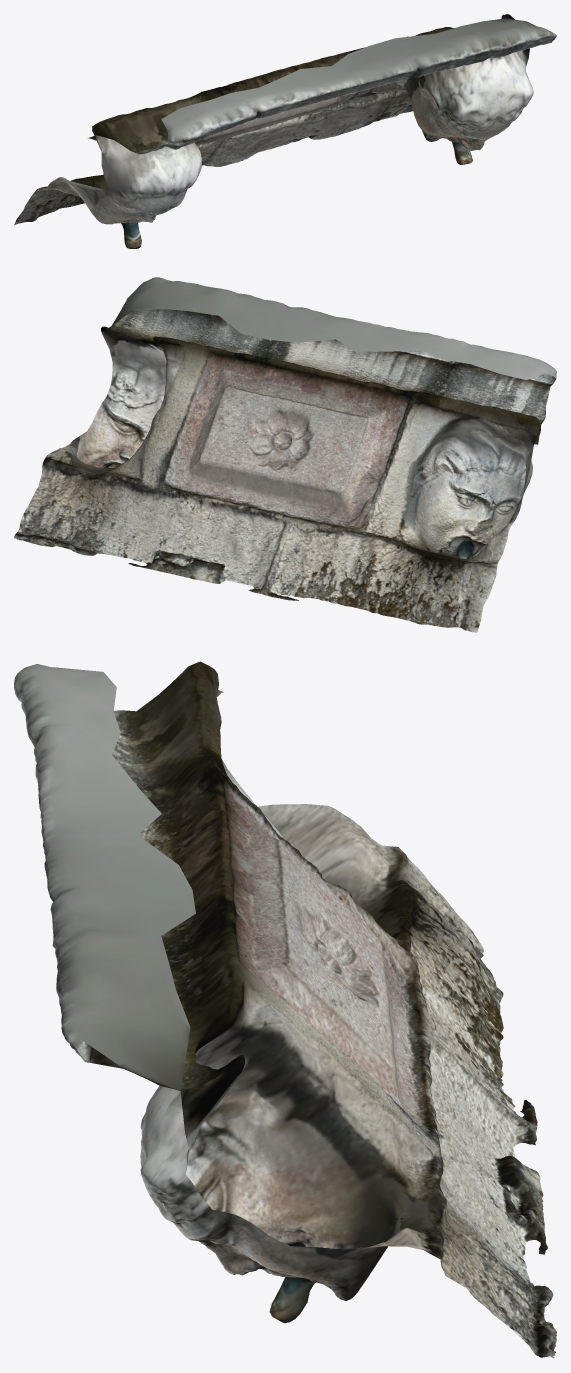
The model's file is MattRossa-optimized.glb.
3 renders of one model, top to bottom at view 1: azimuth 30°, elevation 25°; view 2: azimuth 150°, elevation 25°; view 3: azimuth 270°, elevation 25°, orthographic. The views are drawn at different scales.
Visible parts, largest first — view 1: 3DModel; view 2: 3DModel; view 3: 3DModel.
Part boxes in pixels (x1=…): 3DModel: x1=14, y1=14, x2=556, y2=248; 3DModel: x1=14, y1=277, x2=556, y2=632; 3DModel: x1=14, y1=661, x2=556, y2=1358.
Size of the model in its own units: 12995 by 4998 by 7176.
1 material, 1 textured.
